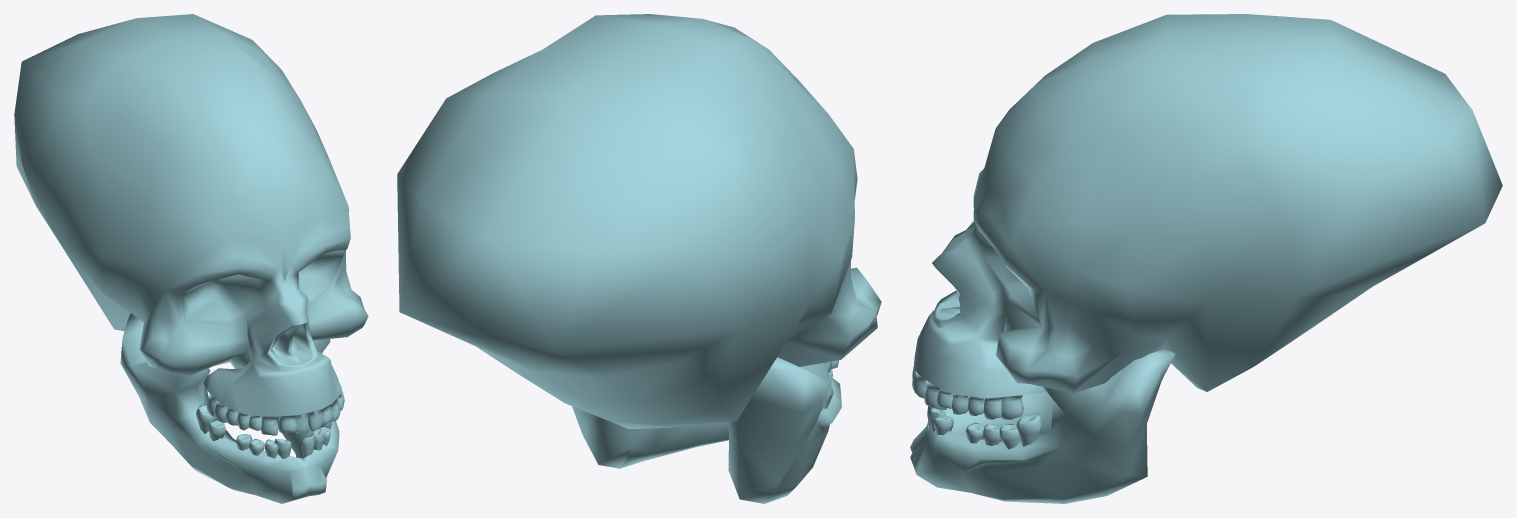
File: skull.fbx
The picture shows the model from 3 angles, left to right: view 1: azimuth 30°, elevation 25°; view 2: azimuth 150°, elevation 25°; view 3: azimuth 270°, elevation 25°; orthographic projection. The views are drawn at different scales.
Parts seen in each view (by area): view 1: skullmesh; view 2: skullmesh; view 3: skullmesh.
Part boxes in pixels (left/top/right/bottom): skullmesh: left=14, top=14, right=368, bottom=503; skullmesh: left=397, top=14, right=881, bottom=503; skullmesh: left=910, top=14, right=1502, bottom=503.
Size of the model in its own units: 313 by 417 by 505.
